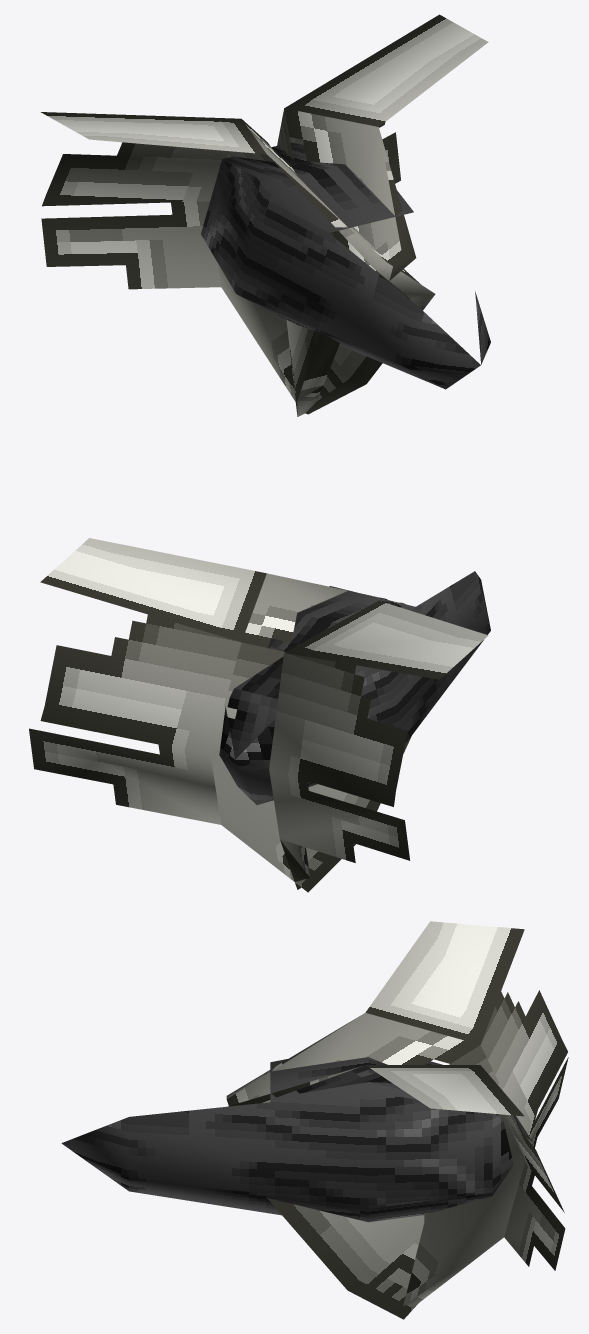
File: 79_efe.gltf
3 renders of one model, top to bottom at view 1: azimuth 30°, elevation 25°; view 2: azimuth 150°, elevation 25°; view 3: azimuth 270°, elevation 25°, orthographic. The views are drawn at different scales.
Size of the model in its own units: 150 by 113 by 190.
Materials: 1 (1 with a texture image).
